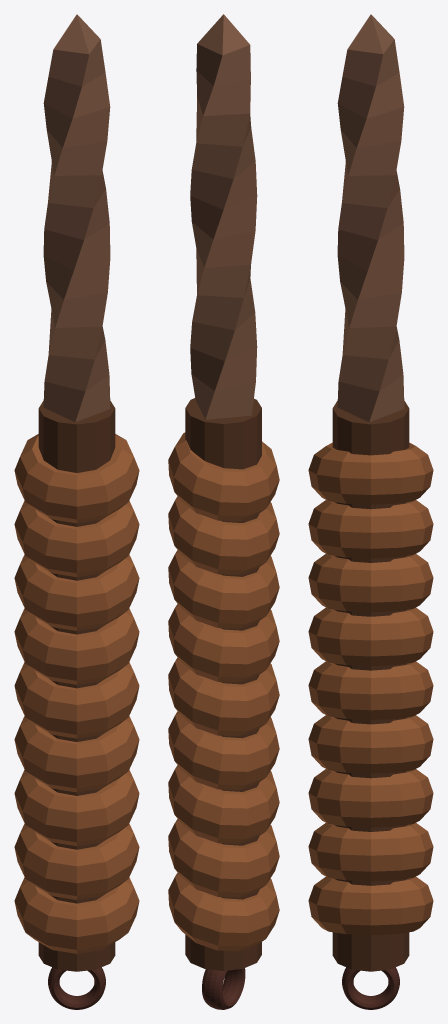
Rendered from Wand 451.glb.
The picture shows the model from 3 angles, left to right: view 1: azimuth 90°, elevation 25°; view 2: azimuth 150°, elevation 25°; view 3: azimuth 270°, elevation 25°; orthographic projection.
Visible parts, largest first — view 1: GeneratedWand; view 2: GeneratedWand; view 3: GeneratedWand.
Part boxes in pixels (bbox=[...]): GeneratedWand: bbox=[14, 14, 139, 1009]; GeneratedWand: bbox=[168, 14, 279, 1009]; GeneratedWand: bbox=[308, 14, 433, 1009].
Bounding box in the file's own units: 0.0497 × 0.5098 × 0.0581.
